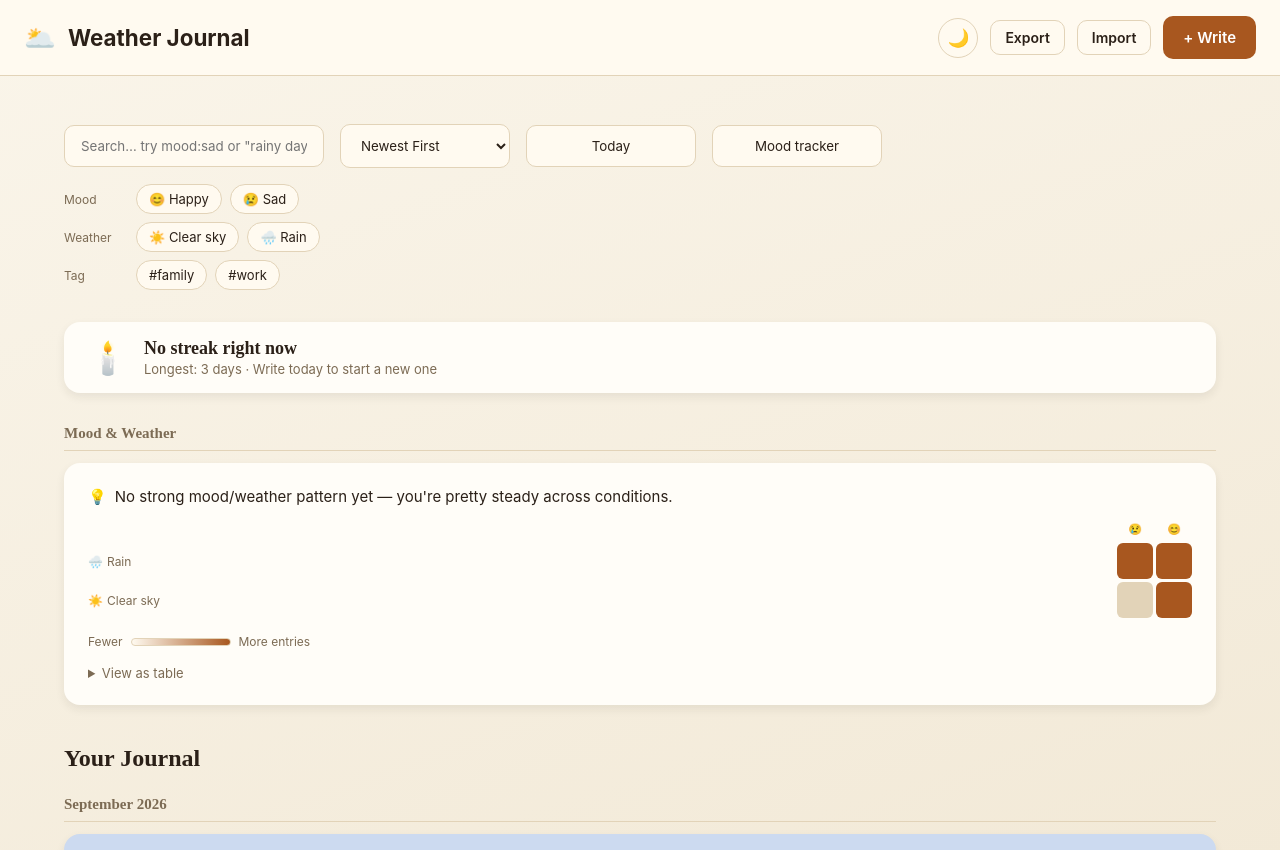
Scenario: Dashboard filters › narrows the timeline and shows a count when a chip is picked
Click the button "😊 Happy".
click(179, 199)  # box [136,184,222,214]
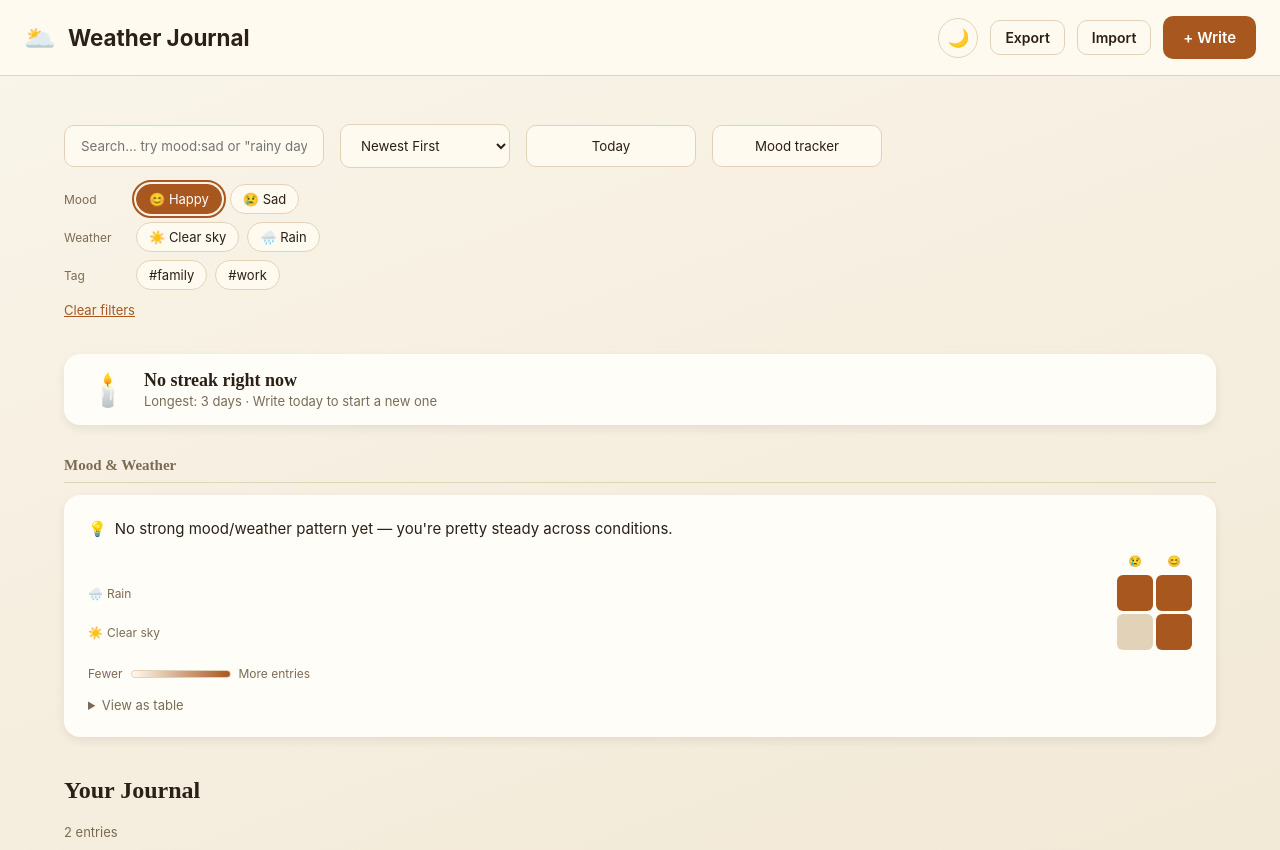
Expected: the message reads "2 entries", [64,824,118,840]
